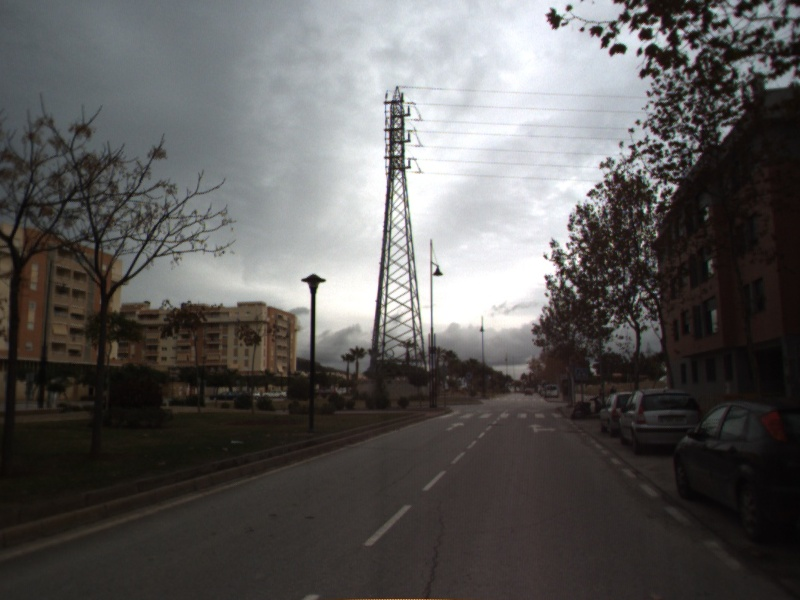STRAIGHT: (443, 419, 467, 433)
STRAIGHT_RIGHT: (526, 421, 559, 435)
